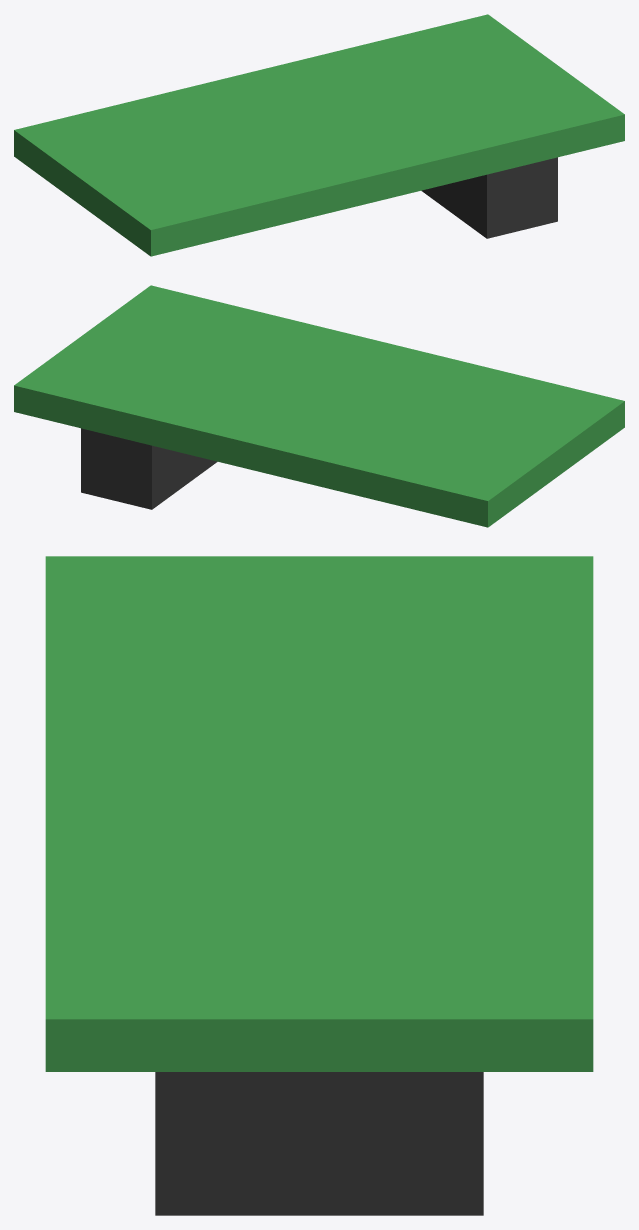
Rendered from ir_cliff_sensor.dae.
3 views of the same model, one above another, from view 1: azimuth 30°, elevation 25°; view 2: azimuth 150°, elevation 25°; view 3: azimuth 270°, elevation 25° (orthographic). The views are drawn at different scales.
Parts seen in each view (by area): view 1: NAUO2, NAUO1; view 2: NAUO2, NAUO1; view 3: NAUO2, NAUO1.
Part boxes in pixels (x1,y1,x2,y2): NAUO2: (14,14,624,256); NAUO1: (421,157,557,238); NAUO2: (14,285,624,527); NAUO1: (81,428,217,509); NAUO2: (45,556,593,1071); NAUO1: (155,1072,483,1215).
Size of the model in its own units: 0.03 by 0.015 by 0.0071.
